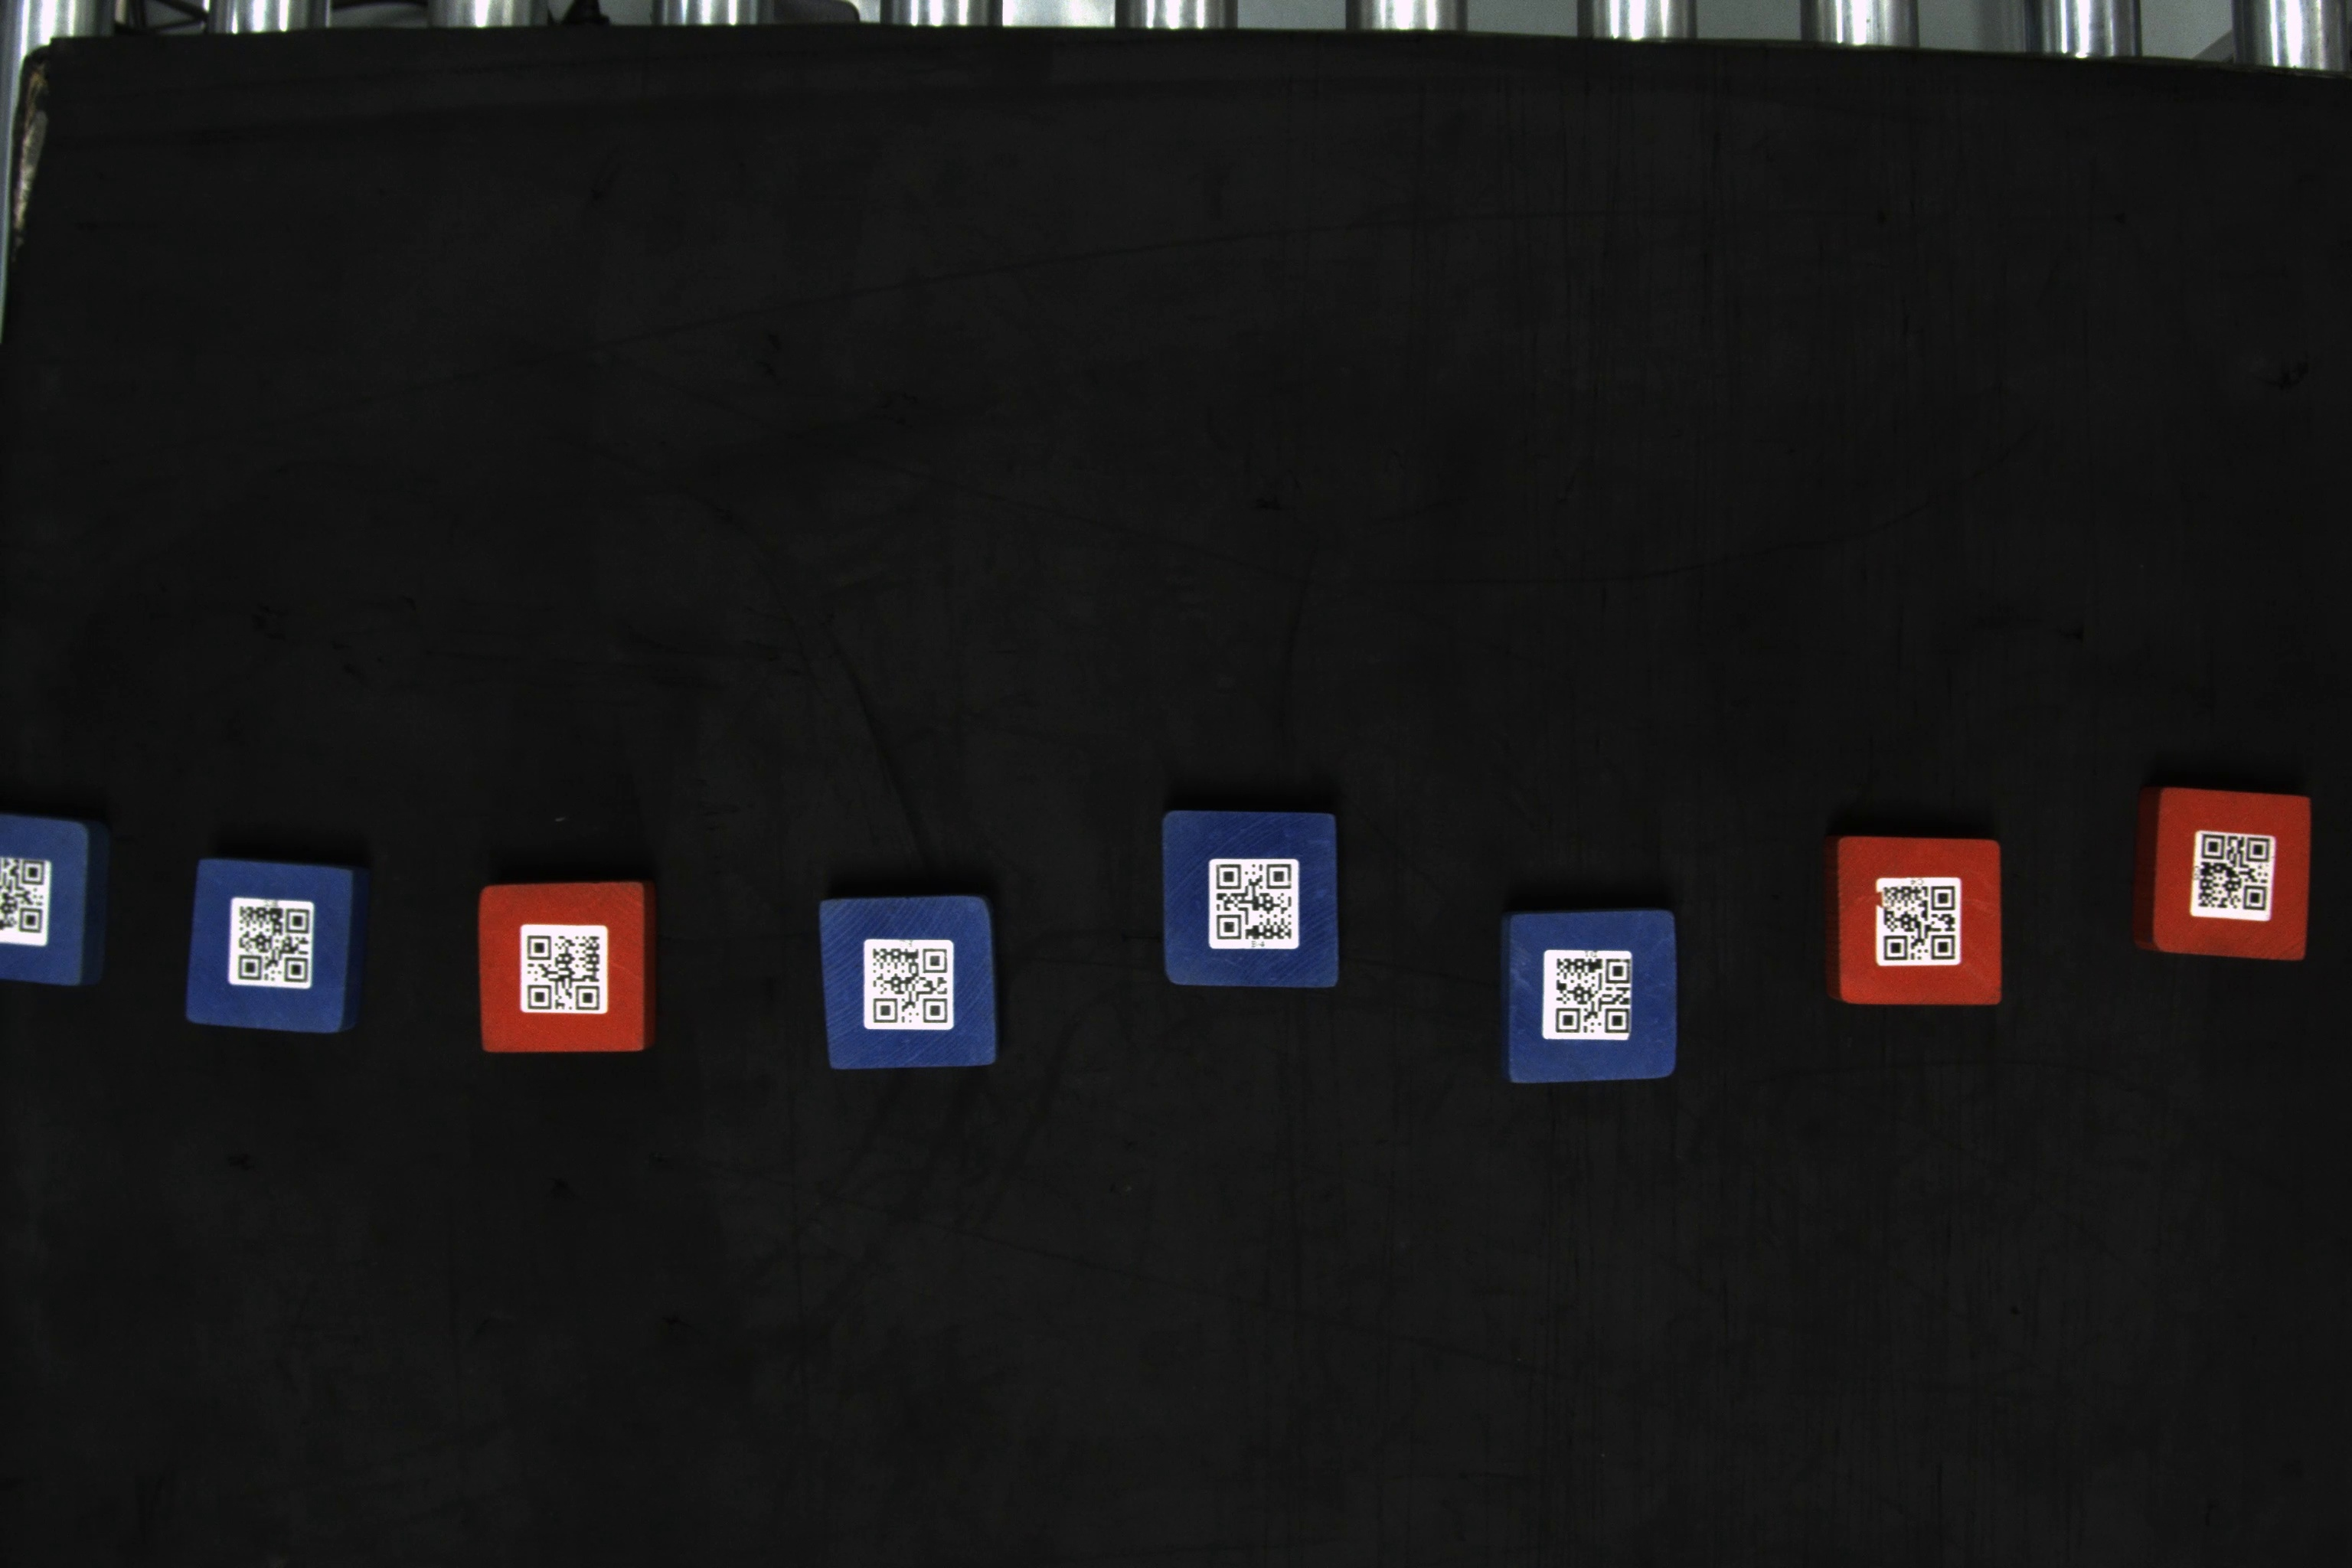wood: (178, 856, 371, 1046), (1151, 808, 1347, 992), (1820, 829, 2012, 1015), (814, 898, 1010, 1073), (1501, 910, 1689, 1088), (2131, 784, 2315, 964), (472, 880, 653, 1057), (2, 808, 124, 997)
